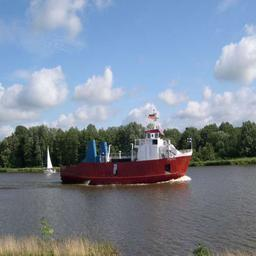Ship: (59, 130, 197, 183), (40, 147, 58, 176)
